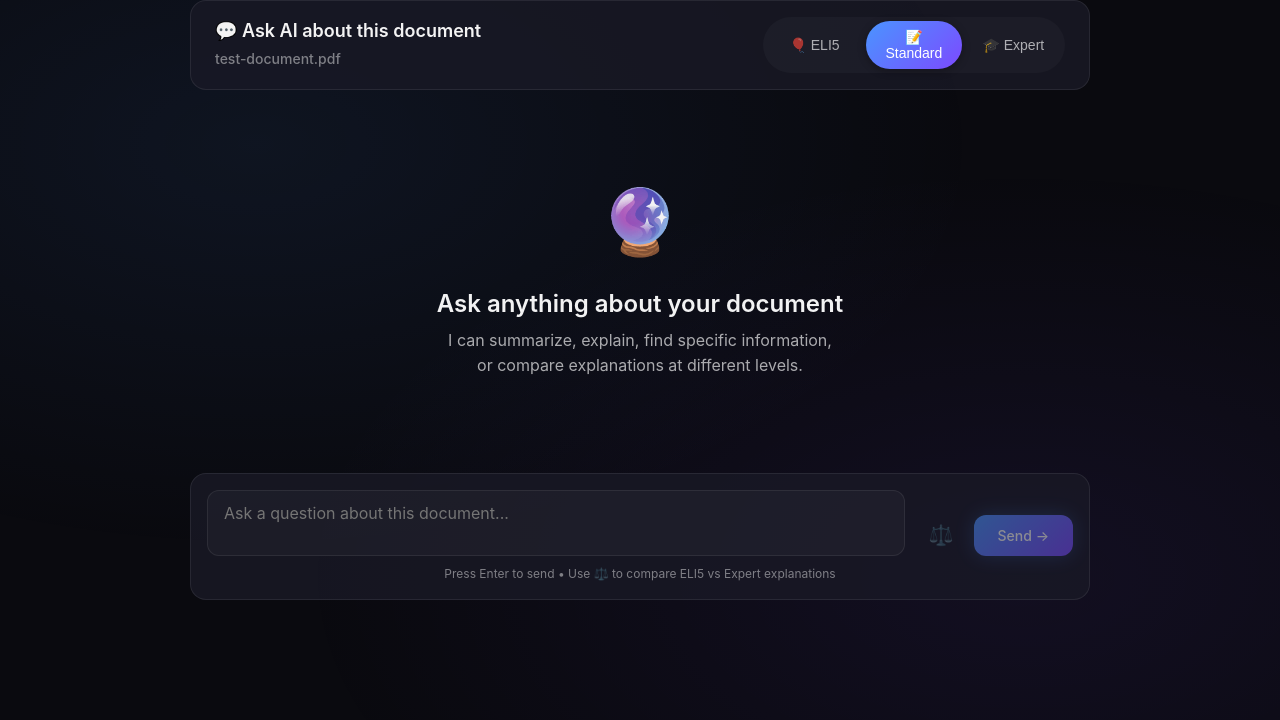
Test: ChatInterface › enables send button when input has text
The width and height of the screenshot is (1280, 720).
Type "What is this document about?" into the text box with placeholder "Ask a question about this document..." at (556, 523), box [207,490,905,556]
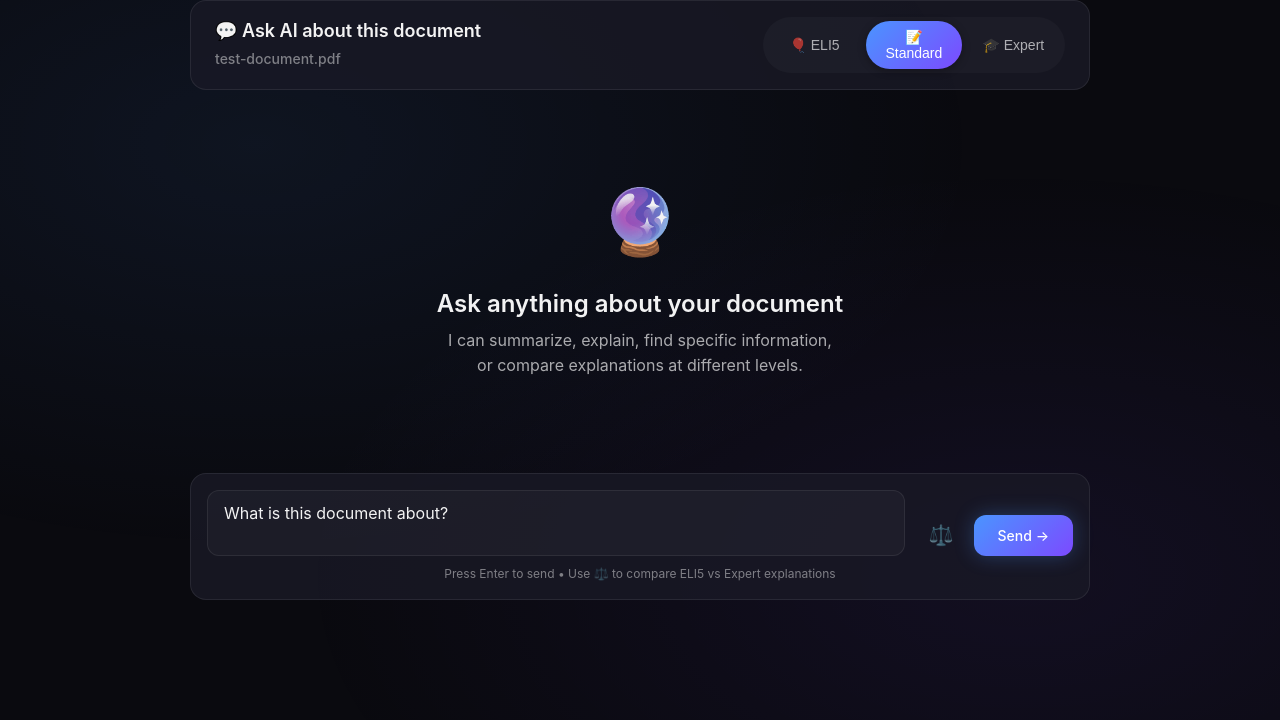
Result: the button "Send →" is enabled at [974,515,1073,556]
